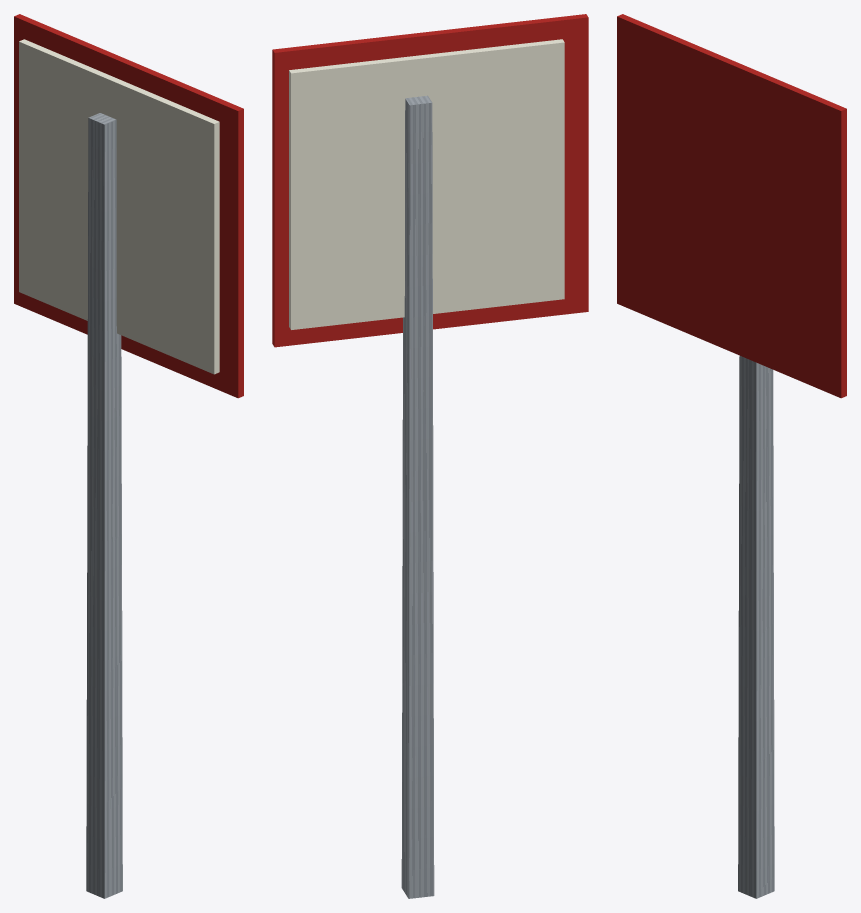
Rendered from give-way-sign-lod1.glb.
3 views of the same model, side by side, from view 1: azimuth 90°, elevation 25°; view 2: azimuth 150°, elevation 25°; view 3: azimuth 270°, elevation 25° (orthographic). The views are drawn at different scales.
Visible parts, largest first — view 1: give-way-sign-lod1; view 2: give-way-sign-lod1; view 3: give-way-sign-lod1.
Part boxes in pixels (<box>): give-way-sign-lod1: <box>14,14,243,898</box>; give-way-sign-lod1: <box>272,14,588,898</box>; give-way-sign-lod1: <box>617,14,846,898</box>.
Bounding box in the file's own units: 0.5657 × 2.25 × 0.5657.
Materials: 1 (1 with a texture image).
